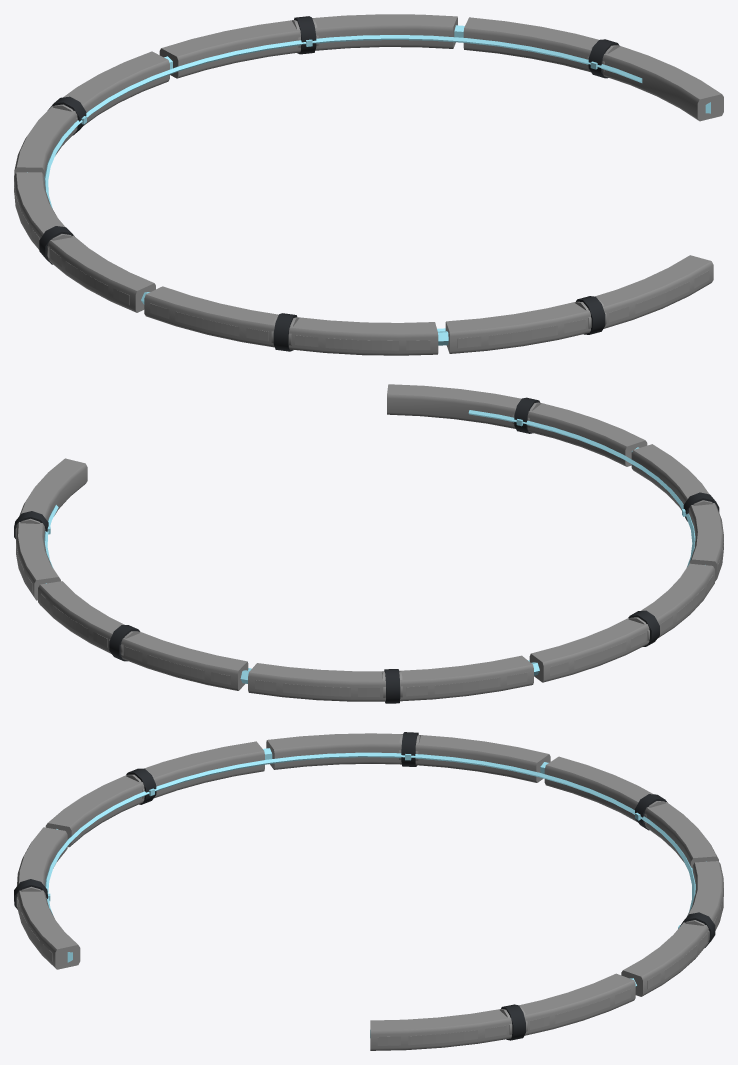
The model's file is Monument_Ring_A.fbx.
3 renders of one model, top to bottom at view 1: azimuth 30°, elevation 25°; view 2: azimuth 150°, elevation 25°; view 3: azimuth 270°, elevation 25°, orthographic. The views are drawn at different scales.
Visible parts, largest first — view 1: Monument_Ring_A_LOD0; view 2: Monument_Ring_A_LOD0; view 3: Monument_Ring_A_LOD0.
Boxes of the visible parts, box(x1,y1,x2,y2) form: Monument_Ring_A_LOD0: box(14, 14, 723, 355); Monument_Ring_A_LOD0: box(14, 384, 723, 703); Monument_Ring_A_LOD0: box(14, 732, 723, 1050).
Size of what is drawn, in the model's own units: 6.05 by 0.3 by 6.06.
